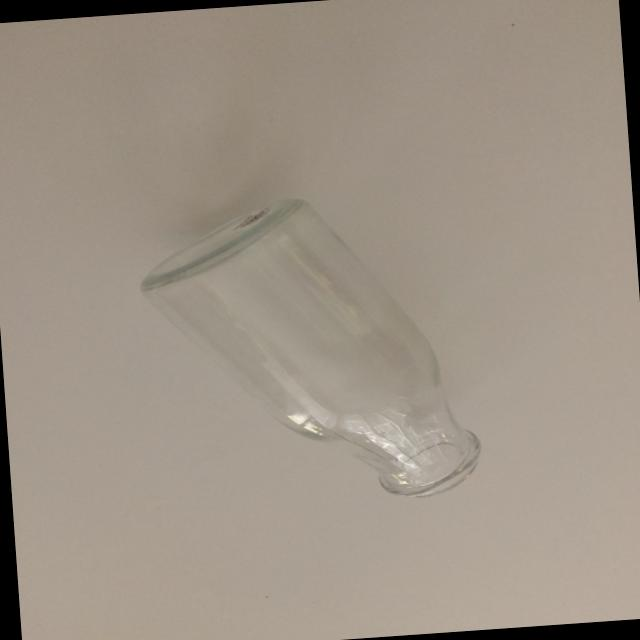Glass: (114, 168, 502, 531)
